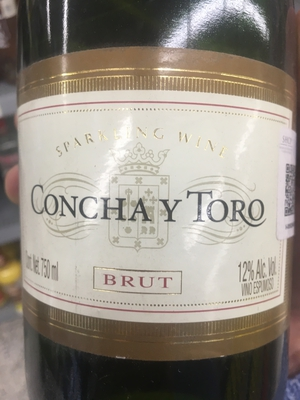brut: (14, 11, 294, 400)
